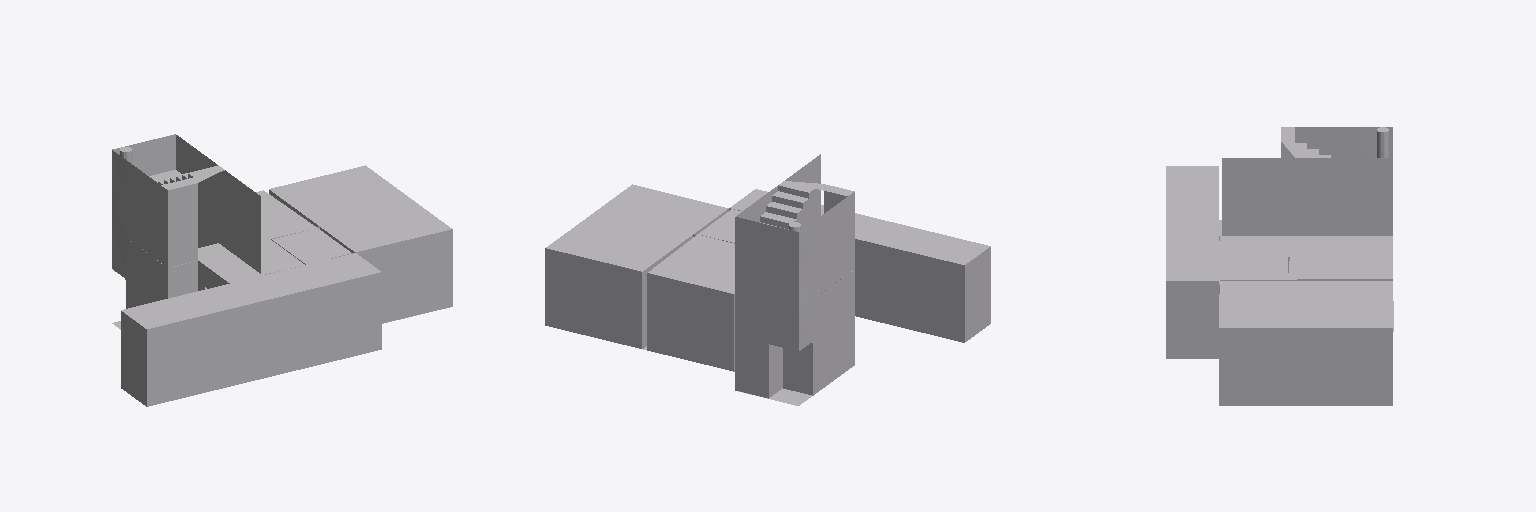
Rendered from Garage.obj.
3 renders of one model, left to right at view 1: azimuth 30°, elevation 25°; view 2: azimuth 150°, elevation 25°; view 3: azimuth 270°, elevation 25°, orthographic.
Bounding box in the file's own units: 918 × 465 × 544.